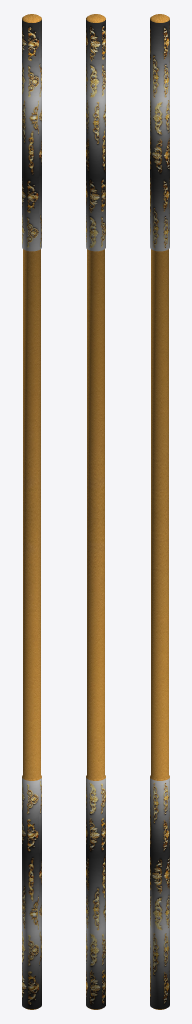
Rendered from Stick.fbx.
3 renders of one model, left to right at view 1: azimuth 90°, elevation 25°; view 2: azimuth 150°, elevation 25°; view 3: azimuth 270°, elevation 25°, orthographic.
Parts seen in each view (by area): view 1: Stick; view 2: Stick; view 3: Stick.
Part boxes in pixels (bbox=[...]): Stick: bbox=[22, 14, 41, 1009]; Stick: bbox=[86, 14, 105, 1009]; Stick: bbox=[150, 14, 169, 1009].
Bounding box in the file's own units: 4.4 × 4.4 × 238.
2 materials, 2 textured.
